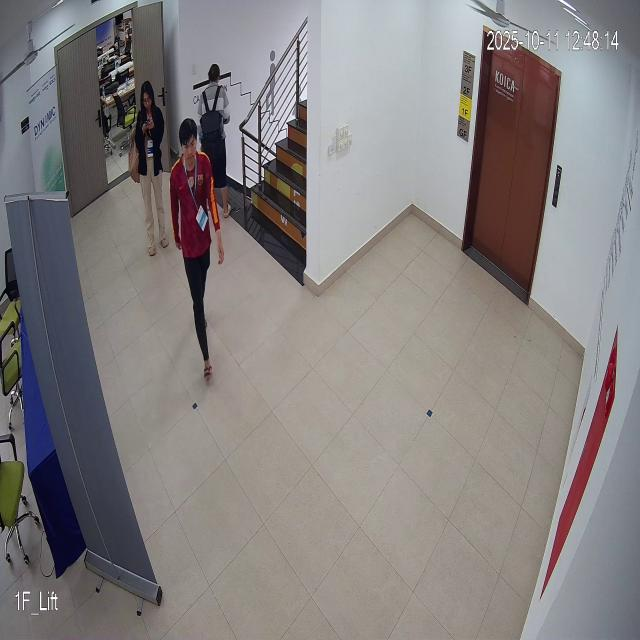face: (175, 108, 199, 167)
